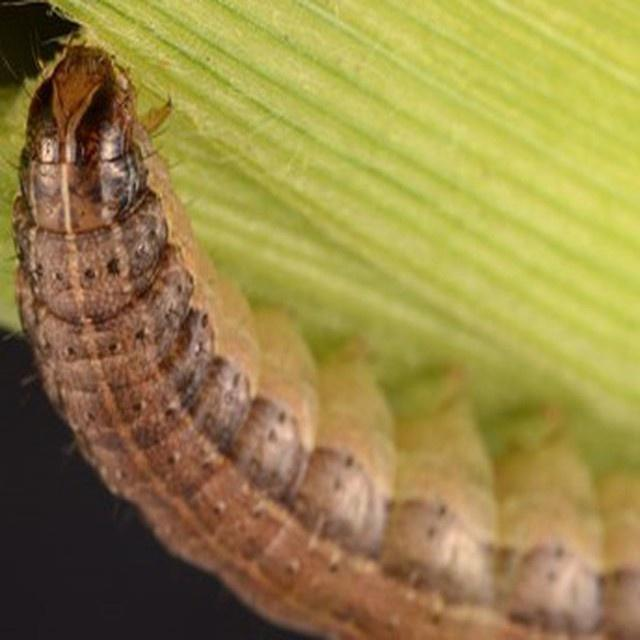gusano_cogollero: (20, 55, 640, 620)
